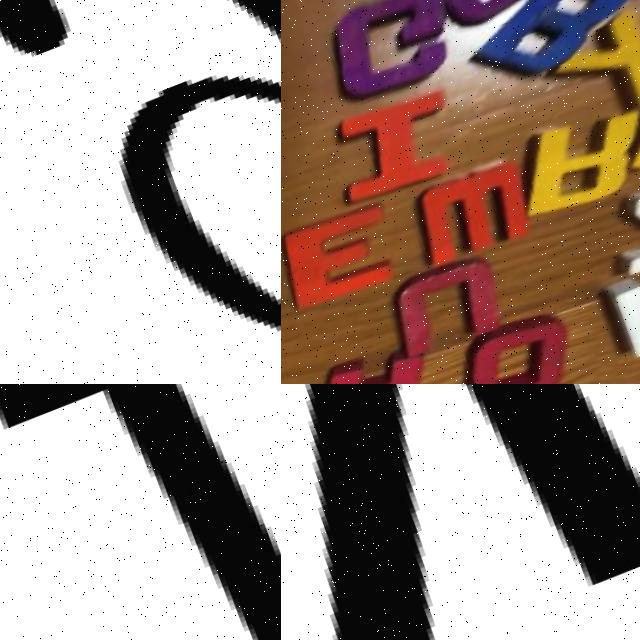9: (0, 0, 281, 384)
A: (295, 344, 442, 384)
B: (459, 0, 640, 91)
E: (281, 194, 412, 321)
G: (311, 0, 460, 119)
H: (589, 241, 640, 370)
I: (323, 89, 452, 211)
L: (612, 68, 640, 176)
O: (462, 307, 583, 384)
R: (506, 99, 640, 224)
S: (413, 0, 566, 34)
U: (377, 248, 522, 371)
V: (281, 384, 640, 640)
W: (400, 154, 545, 271)
X: (552, 0, 640, 127)
Z: (604, 157, 640, 283)
